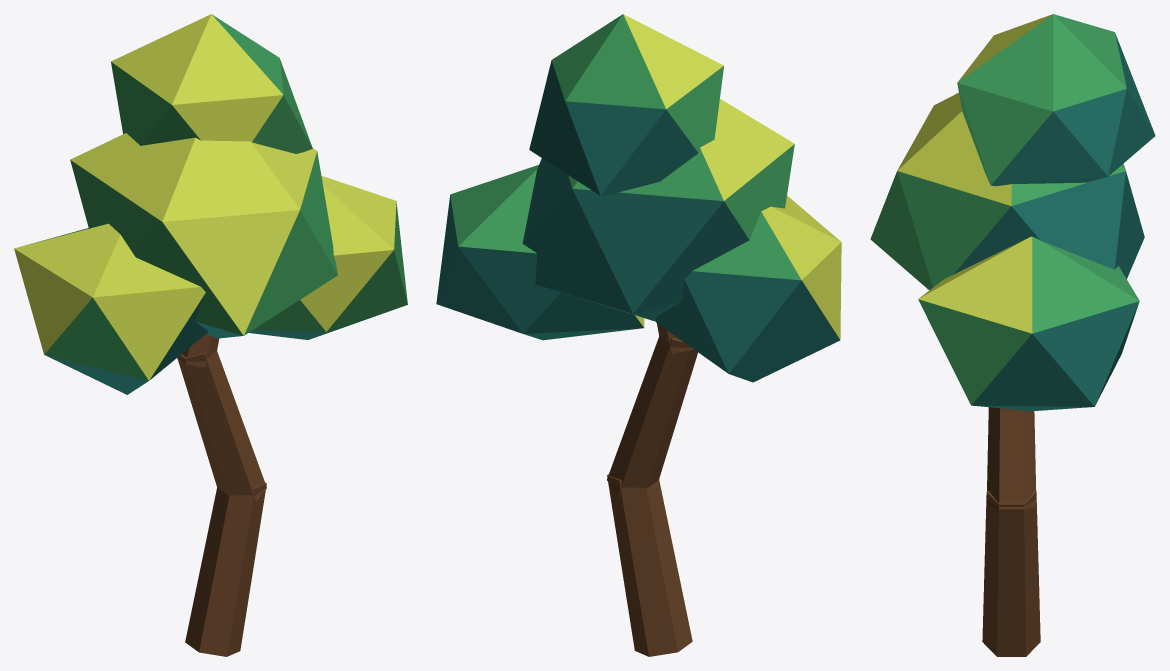
The model's file is Agac_Fidan.fbx.
3 renders of one model, left to right at view 1: azimuth 30°, elevation 25°; view 2: azimuth 150°, elevation 25°; view 3: azimuth 270°, elevation 25°, orthographic. The views are drawn at different scales.
Parts seen in each view (by area): view 1: Agac_Fidan; view 2: Agac_Fidan; view 3: Agac_Fidan.
Part boxes in pixels (<box>): Agac_Fidan: <box>14,14,407,656</box>; Agac_Fidan: <box>436,14,841,656</box>; Agac_Fidan: <box>870,14,1155,656</box>.
Size of the model in its own units: 104 by 170 by 68.53.
